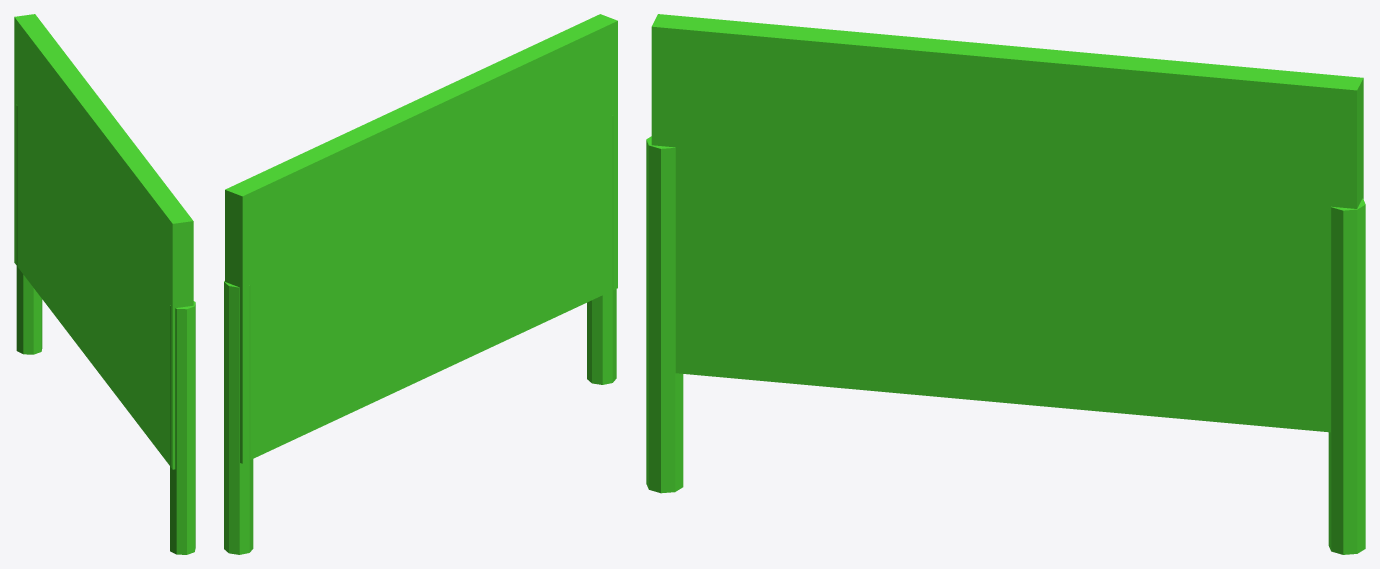
File: cylinder.002_lev1_lev3.glb
3 renders of one model, left to right at view 1: azimuth 30°, elevation 25°; view 2: azimuth 150°, elevation 25°; view 3: azimuth 270°, elevation 25°, orthographic. The views are drawn at different scales.
Visible parts, largest first — view 1: cylinder.002_lev1_lev3; view 2: cylinder.002_lev1_lev3; view 3: cylinder.002_lev1_lev3.
Boxes of the visible parts, x1=… form: cylinder.002_lev1_lev3: x1=14, y1=14, x2=195, y2=554; cylinder.002_lev1_lev3: x1=224, y1=14, x2=617, y2=554; cylinder.002_lev1_lev3: x1=646, y1=14, x2=1365, y2=554.
Bounding box in the file's own units: 0.9722 × 2.69 × 3.79.
